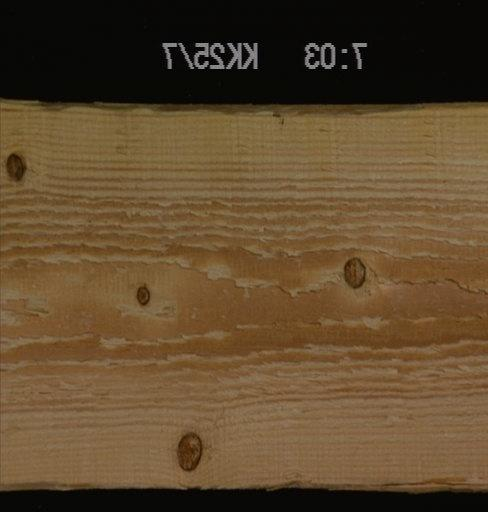dry_knot: (341, 254, 368, 288), (3, 148, 29, 183), (134, 282, 153, 307)
wave: (4, 472, 486, 495), (92, 101, 486, 126)
